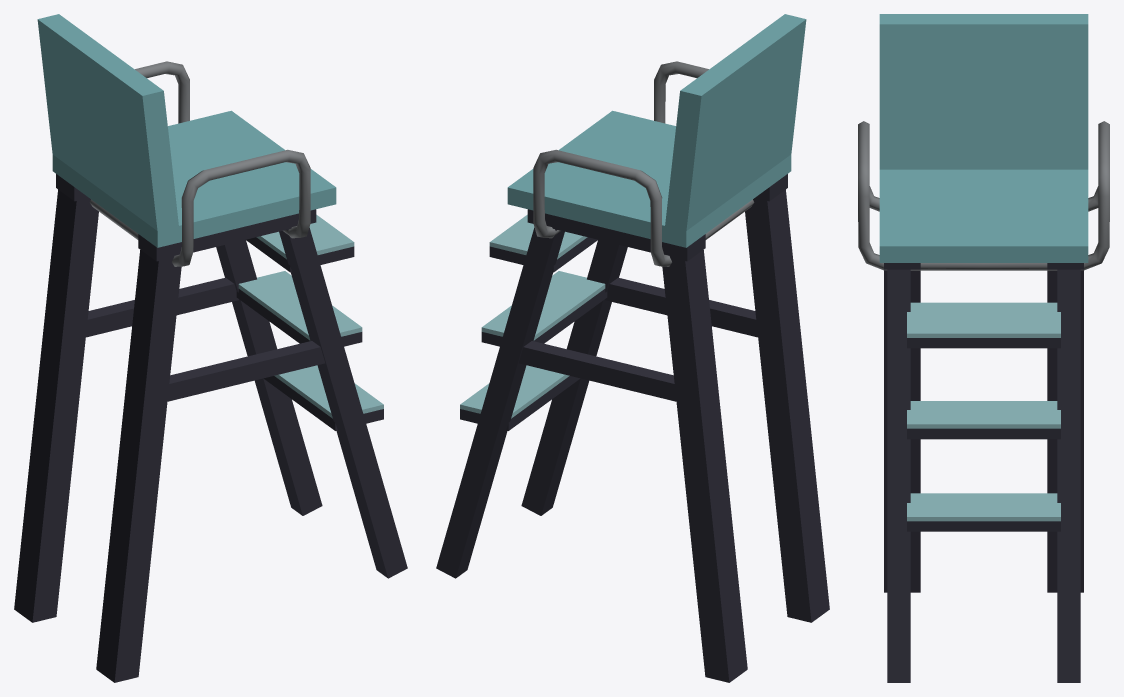
File: Umpire Chair.fbx
3 views of the same model, side by side, from view 1: azimuth 30°, elevation 25°; view 2: azimuth 150°, elevation 25°; view 3: azimuth 270°, elevation 25° (orthographic).
Parts seen in each view (by area): view 1: Umpire Chair; view 2: Umpire Chair; view 3: Umpire Chair.
Part boxes in pixels (box(x1,y1,x2,y2)): Umpire Chair: box(14, 14, 407, 682); Umpire Chair: box(436, 14, 829, 682); Umpire Chair: box(858, 14, 1109, 682).
Size of the model in its own units: 101 by 191 by 75.19.
